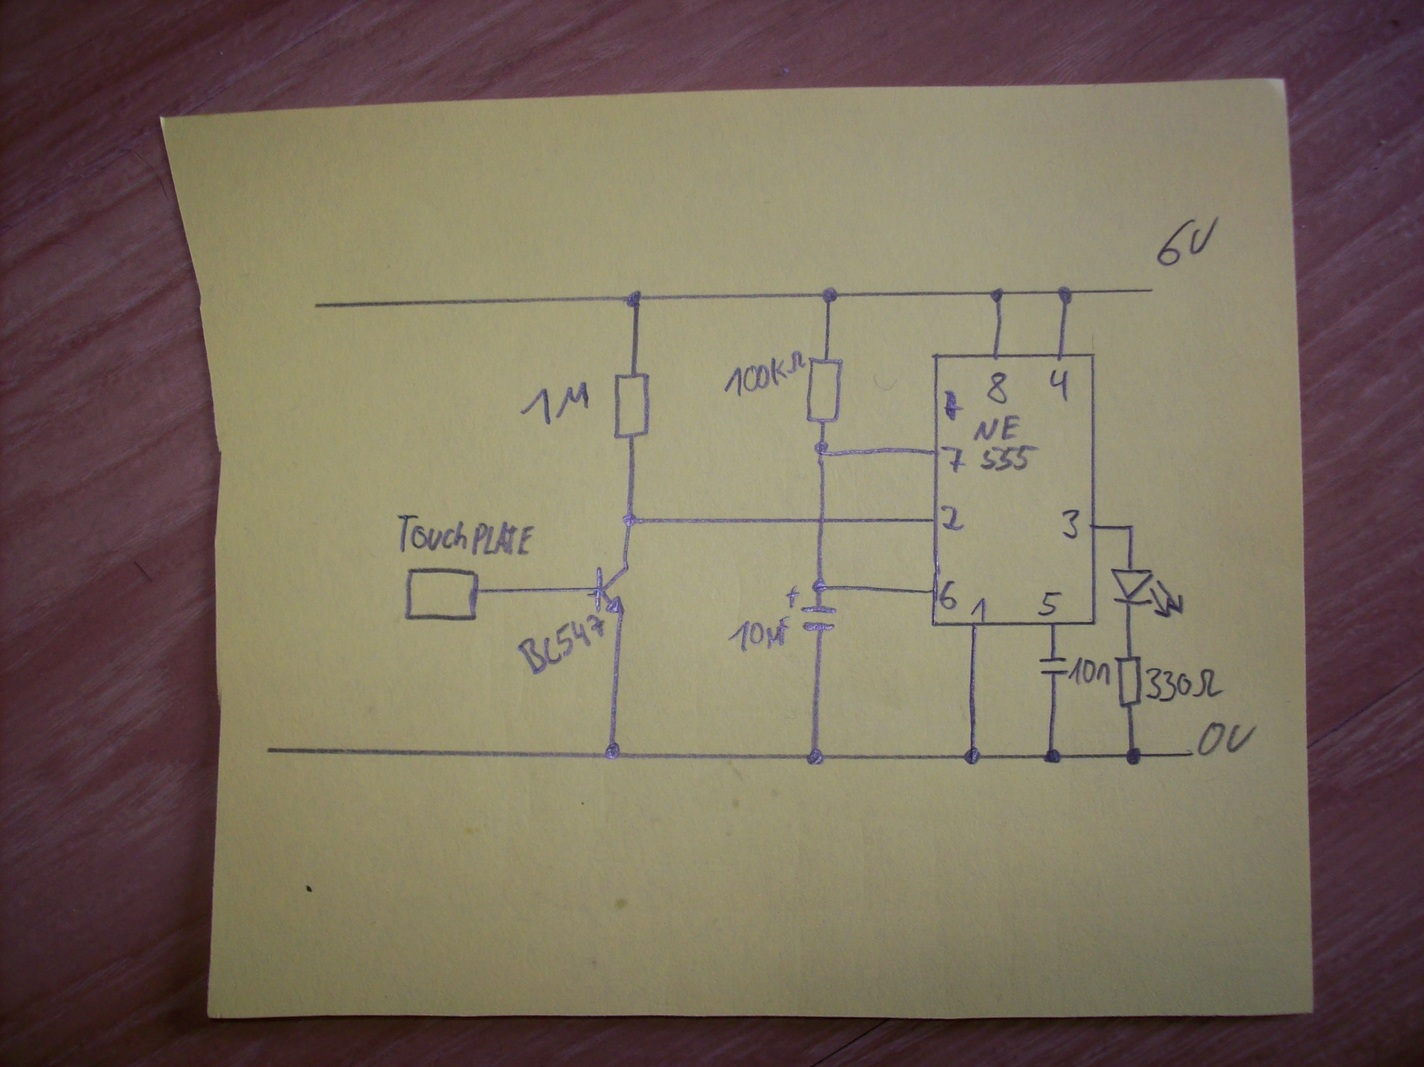capacitor.polarized: (785, 586, 838, 633)
capacitor.unpolarized: (1037, 655, 1070, 679)
crossover: (815, 514, 829, 528)
diode.light_emitting: (1109, 566, 1186, 619)
integrated_cricuit.ne555: (928, 349, 1099, 630)
junction: (812, 440, 836, 465), (820, 284, 841, 307), (806, 746, 827, 770), (1055, 284, 1077, 305), (624, 288, 645, 309), (603, 741, 623, 763), (1124, 744, 1143, 767), (962, 746, 983, 767), (988, 285, 1007, 305), (1042, 748, 1063, 766), (811, 577, 830, 595), (620, 512, 640, 529), (1124, 522, 1138, 533)
resistor: (612, 371, 653, 440), (804, 355, 845, 426), (1114, 653, 1145, 709)
terminal: (401, 565, 481, 624), (309, 298, 327, 312), (264, 742, 280, 755), (1185, 746, 1195, 760), (1147, 285, 1155, 296)
text: (394, 511, 536, 559), (515, 613, 607, 676), (723, 347, 806, 399), (972, 411, 1040, 473), (518, 379, 592, 426), (1155, 215, 1220, 267), (1144, 665, 1223, 704), (728, 616, 794, 653), (1193, 720, 1258, 757), (1067, 655, 1113, 687), (984, 370, 1009, 406), (1048, 368, 1071, 403), (939, 445, 967, 474), (939, 503, 965, 533), (1060, 507, 1082, 541), (938, 578, 960, 611), (1037, 590, 1063, 616), (969, 596, 989, 622)
transistor: (593, 562, 631, 615)
